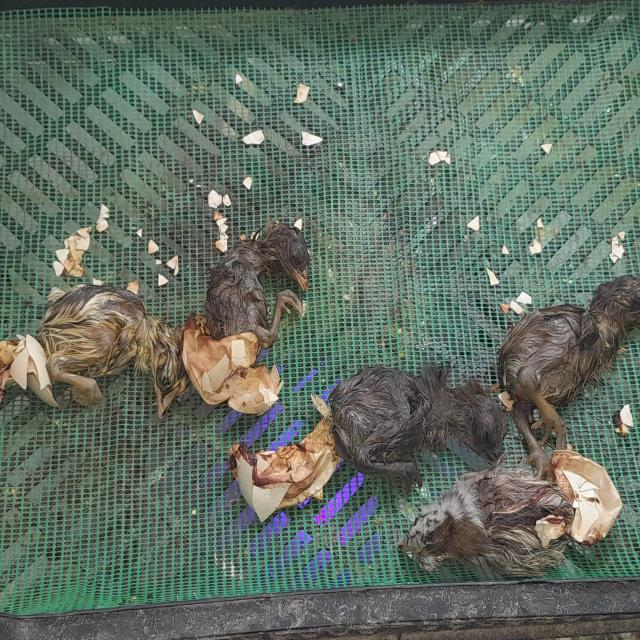Unhealthy: (321, 331, 514, 500), (496, 269, 640, 442), (32, 269, 188, 414), (198, 213, 323, 366)
